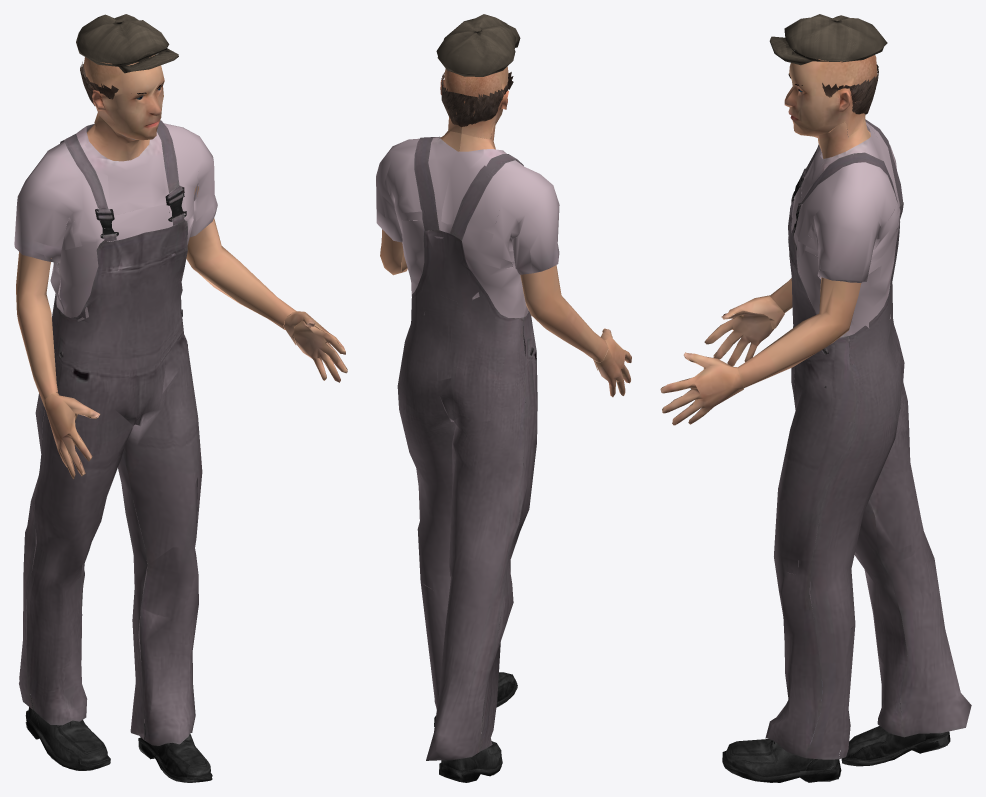
3 views of the same model, side by side, from view 1: azimuth 30°, elevation 25°; view 2: azimuth 150°, elevation 25°; view 3: azimuth 270°, elevation 25° (orthographic). The views are drawn at different scales.
Visible parts, largest first — view 1: Modell; view 2: Modell; view 3: Modell.
Boxes of the visible parts, left/top/right/bottom form: Modell: left=14, top=14, right=347, bottom=782; Modell: left=376, top=14, right=631, bottom=782; Modell: left=660, top=14, right=971, bottom=782.
Bounding box in the file's own units: 0.596 × 1.72 × 0.6438.
Materials: 7 (7 with a texture image).
